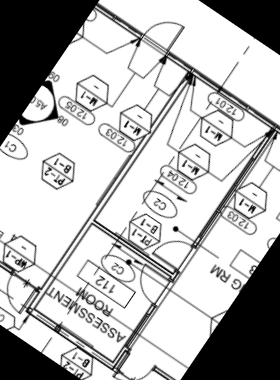door: (141, 8, 188, 56), (128, 262, 176, 308), (150, 229, 196, 273), (0, 271, 40, 319), (108, 346, 158, 380)
